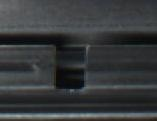oneu: (46, 39, 93, 96)
